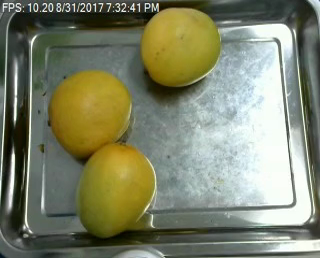Mango: (75, 144, 156, 236), (49, 70, 133, 157), (139, 9, 219, 86)
